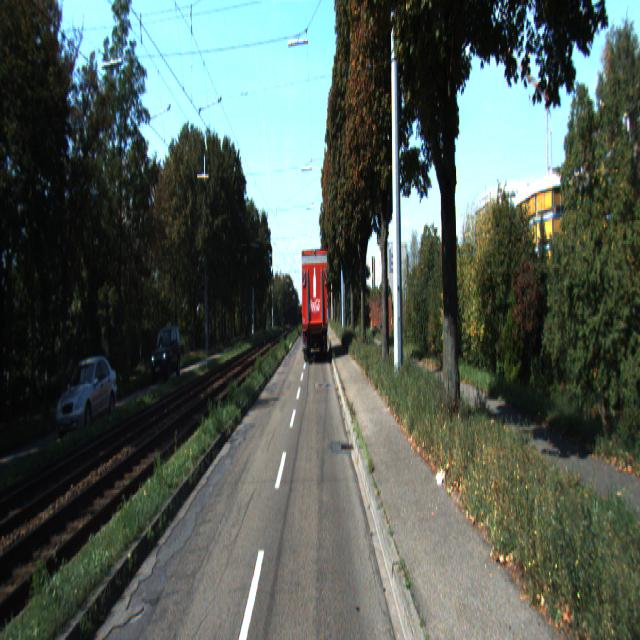Car: (54, 348, 119, 440), (299, 242, 329, 360), (149, 319, 182, 381)
